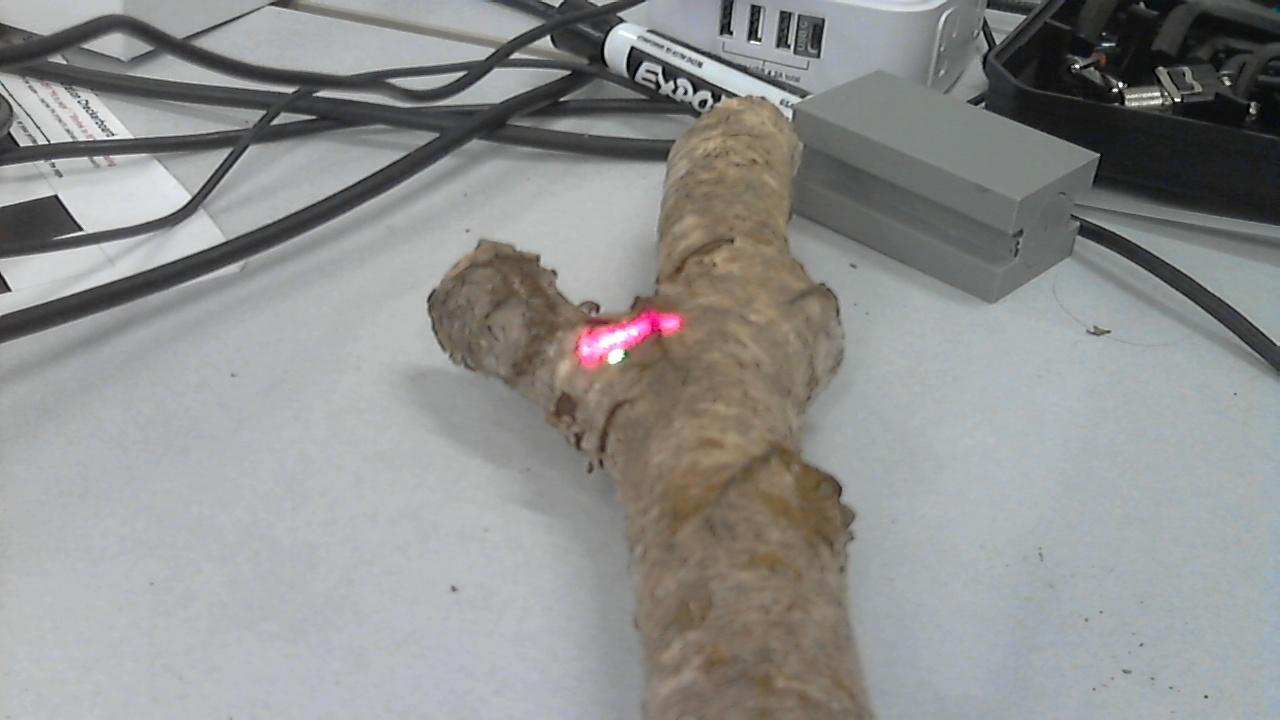Object tree branch - Material wood - Pdfname pipoaepaf: (572, 296, 687, 372)
